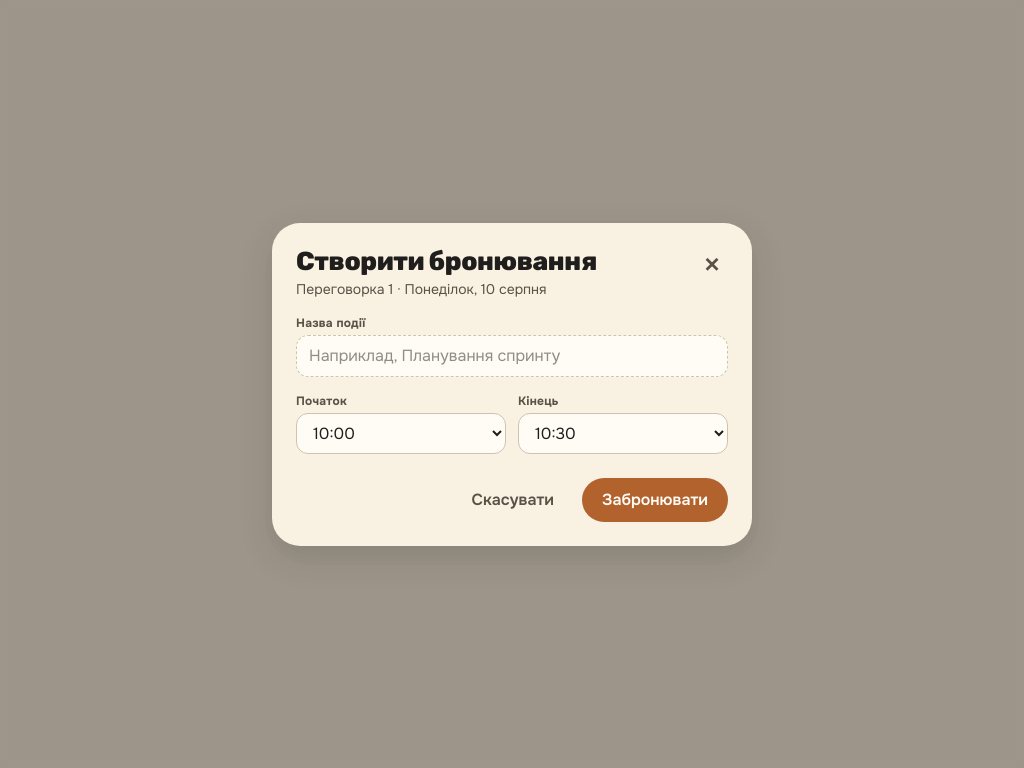
Test case: CreateBookingModal › updates end time default to start time + 30 mins when start time is changed
The width and height of the screenshot is (1024, 768).
Check: the dropdown labelled "Кінець" shows "10:30", box [518,412,728,454]
Change start to 12:00 Kyiv (09:00Z)
Select "12:00" in the dropdown labelled "Початок": (401, 433) [296,412,506,454]
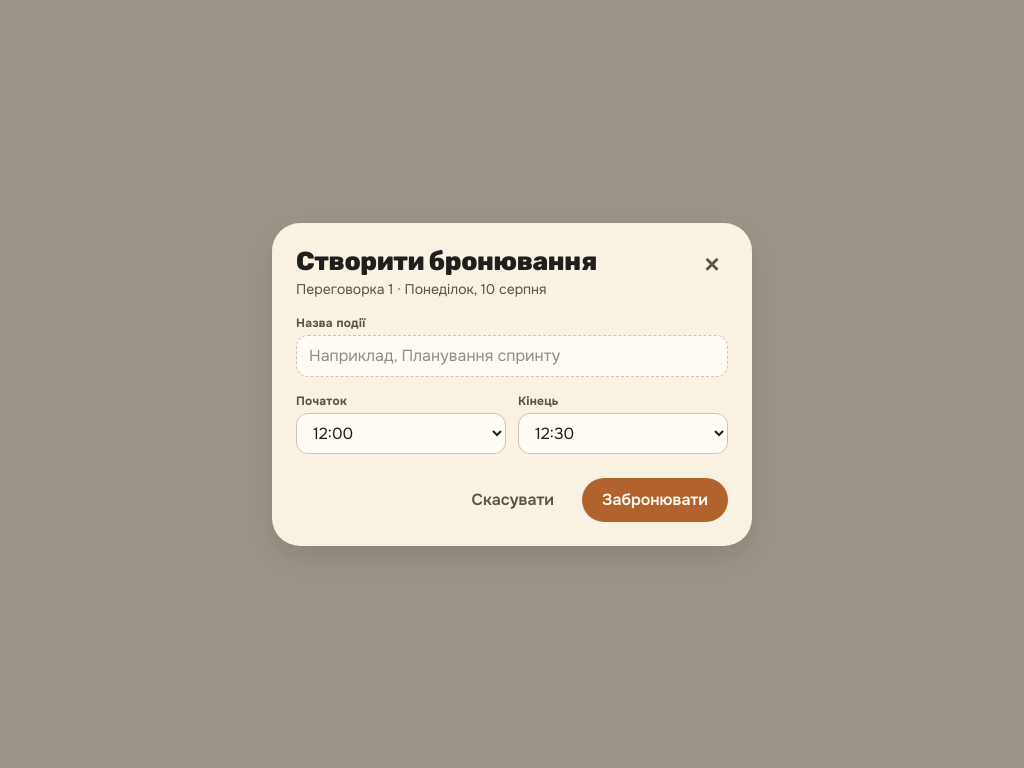
Check: the dropdown labelled "Кінець" shows "12:30", box [518,412,728,454]
